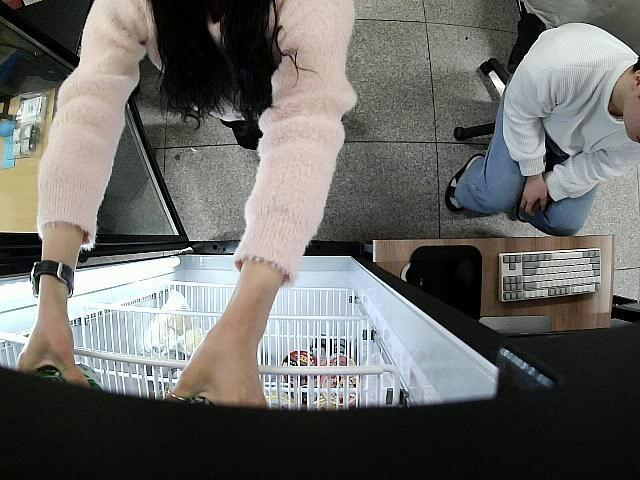12_chilsungCider: (31, 363, 104, 394)
